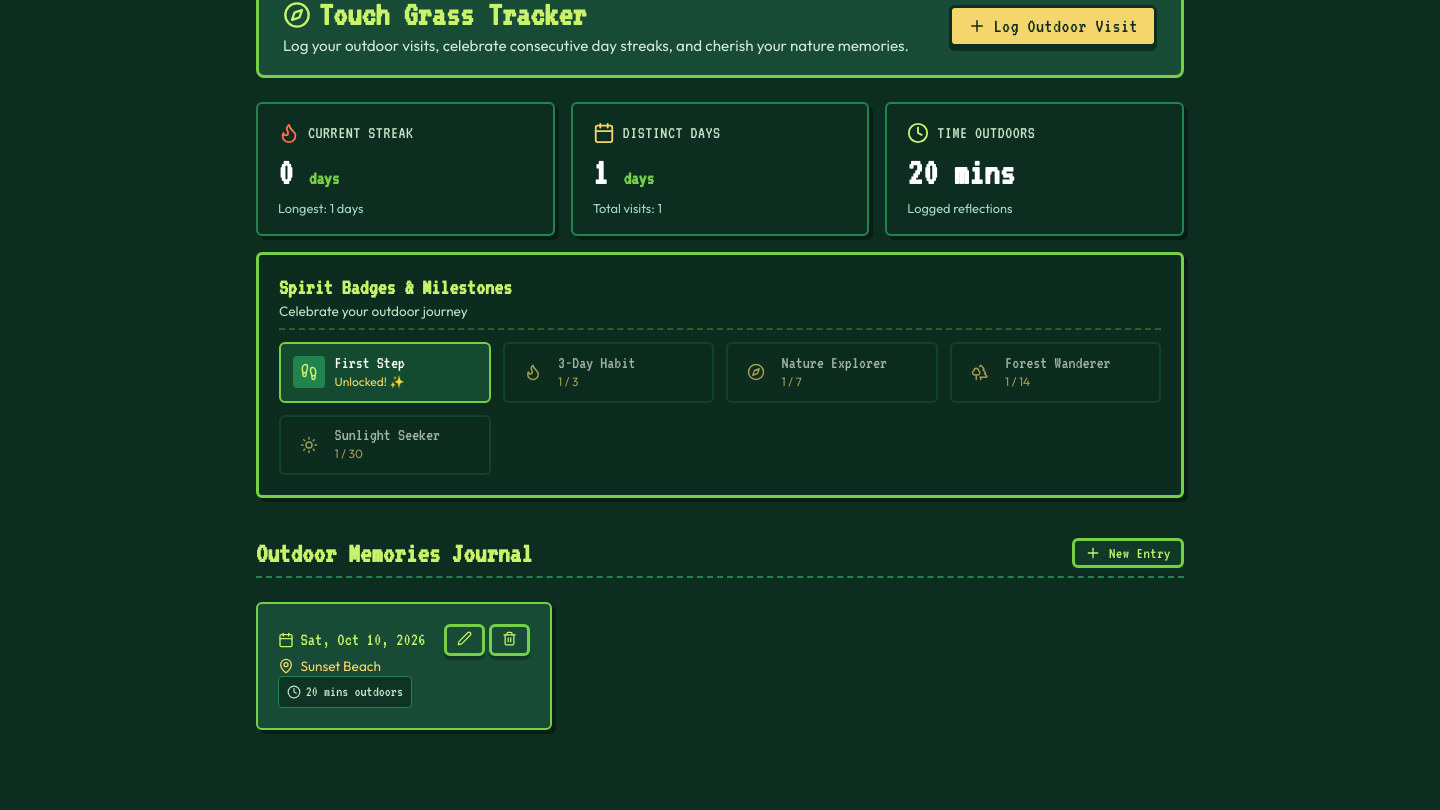
Test: Milestone 4 — TrackerPage Integration Tests › prompts confirmation modal before deleting a visit
The image size is (1440, 810).
(page scrolled)
Expected: the text "Sunset Beach" is shown, [300,656,381,676]
// Click delete
Click the button named "Delete visit from".
click(510, 640)  # box [489,624,530,656]
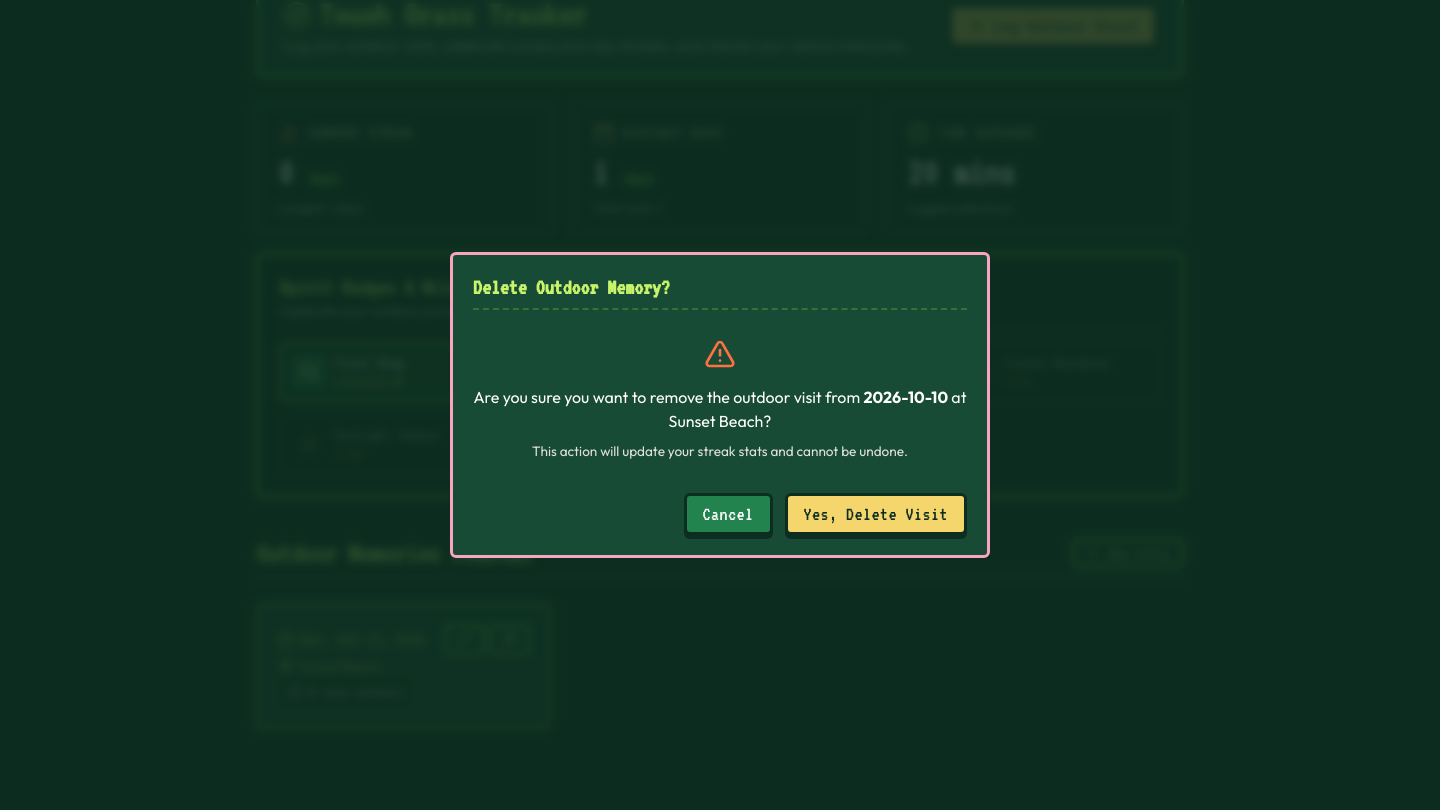
Expected: the heading "Delete Outdoor Memory?" is shown, [473,275,670,300]
// Confirm deletion
Click the button "Yes, Delete Visit".
click(876, 514)  # box [784,493,967,535]
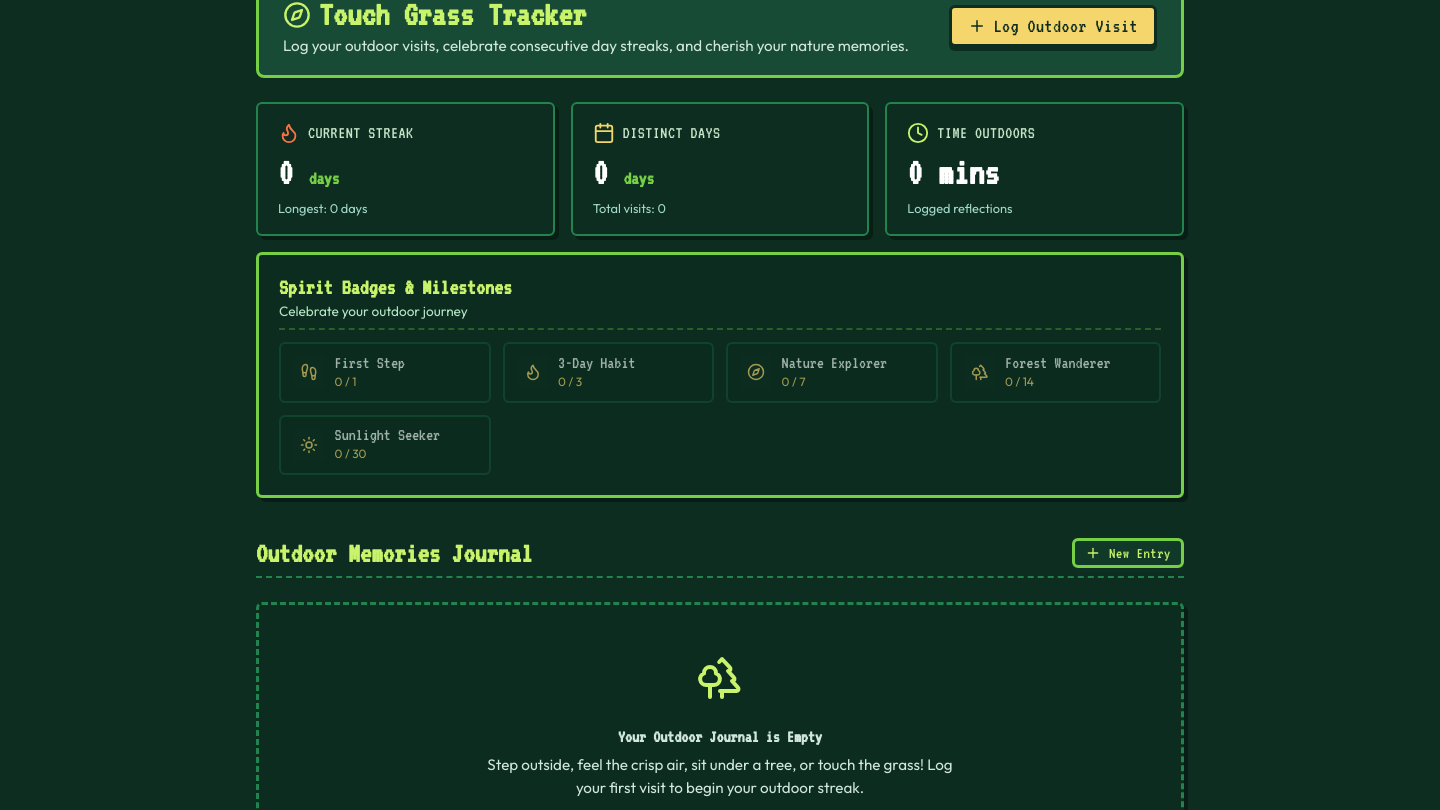
Expected: the text "Sunset Beach" is not shown
Expected: the heading "Your Outdoor Journal is Empty" is shown, [618,728,822,746]
